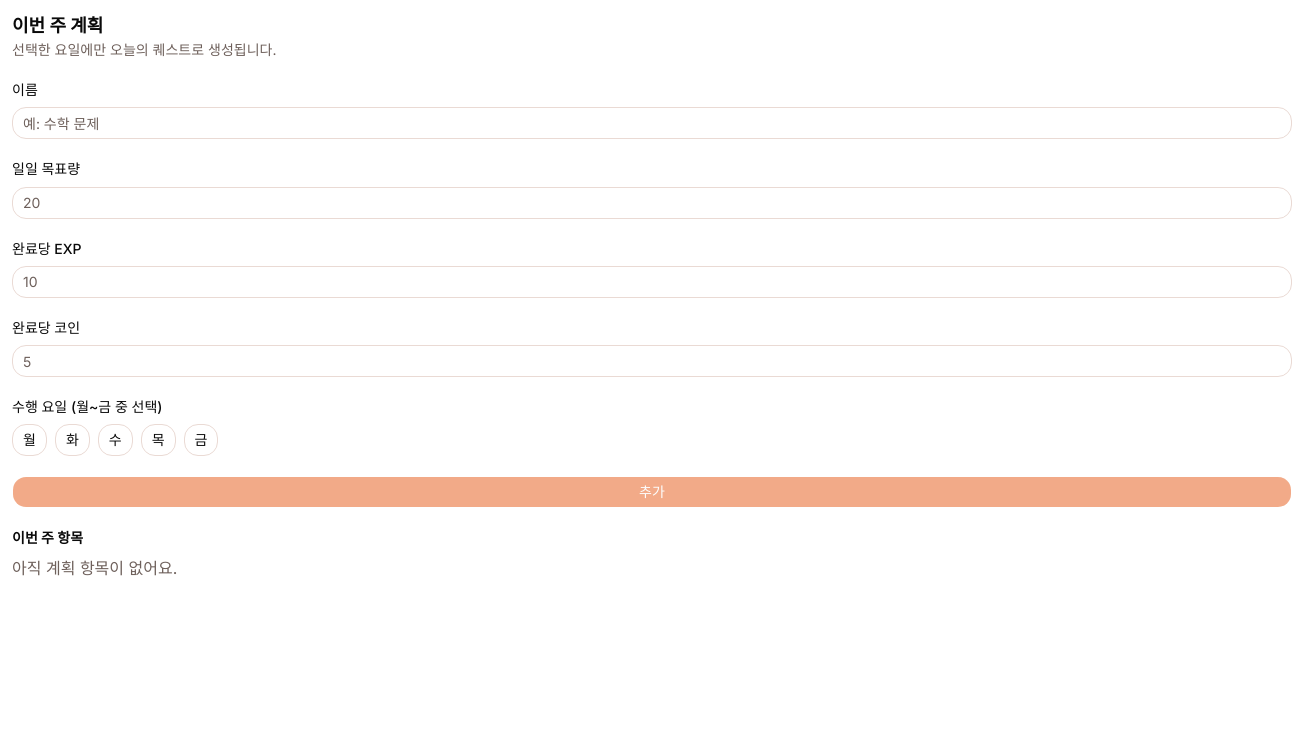
Test: PlanScreen — 이번 주 계획 › [S2-5] 요일 0개면 추가 불가, 최소 1개 선택해야 활성화된다
Check: the text "아직 계획 항목이 없어요." is shown, box 12,558 -> 177,578
Check: the button "추가" is disabled, box 12,476 -> 1292,508
Type "수학" into the field with placeholder "예: 수학 문제". click: (652, 123)
box: 12,107 -> 1292,139
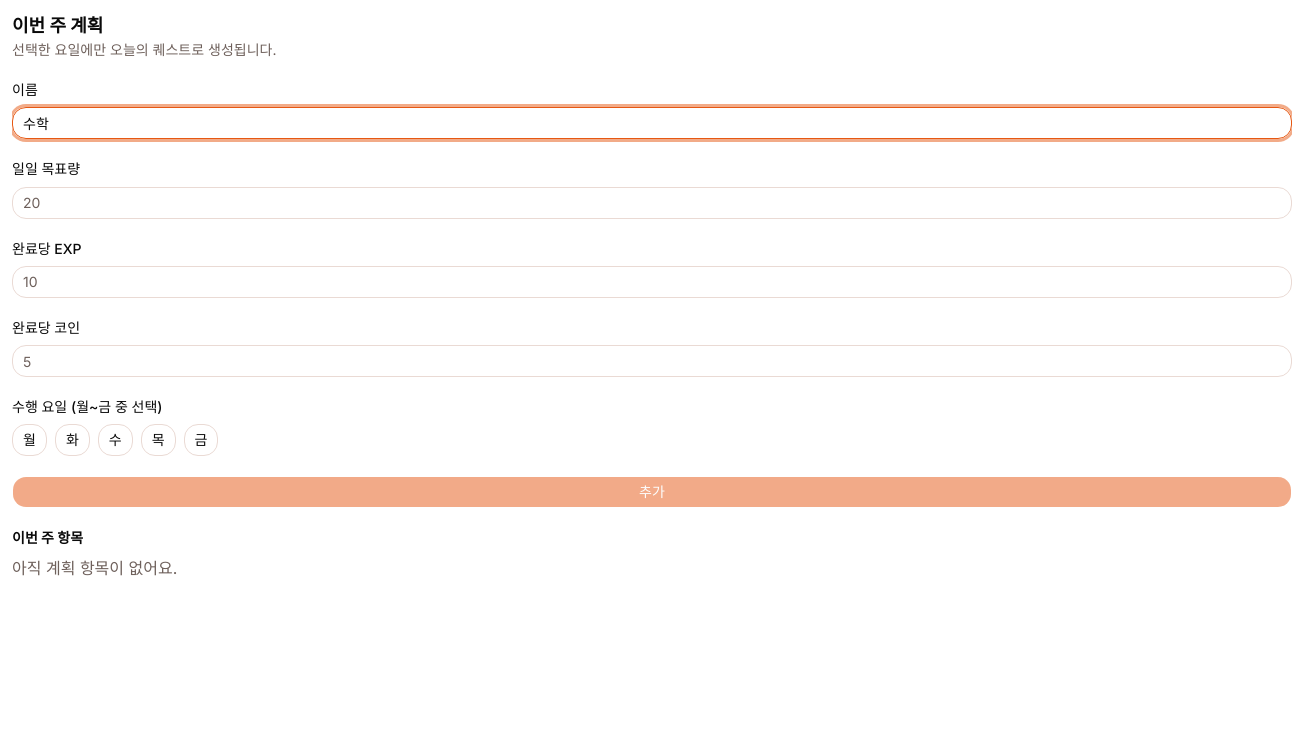
Check: the button "추가" is disabled, box 12,476 -> 1292,508
Click the button "월". click: (29, 440)
box: 12,424 -> 47,456
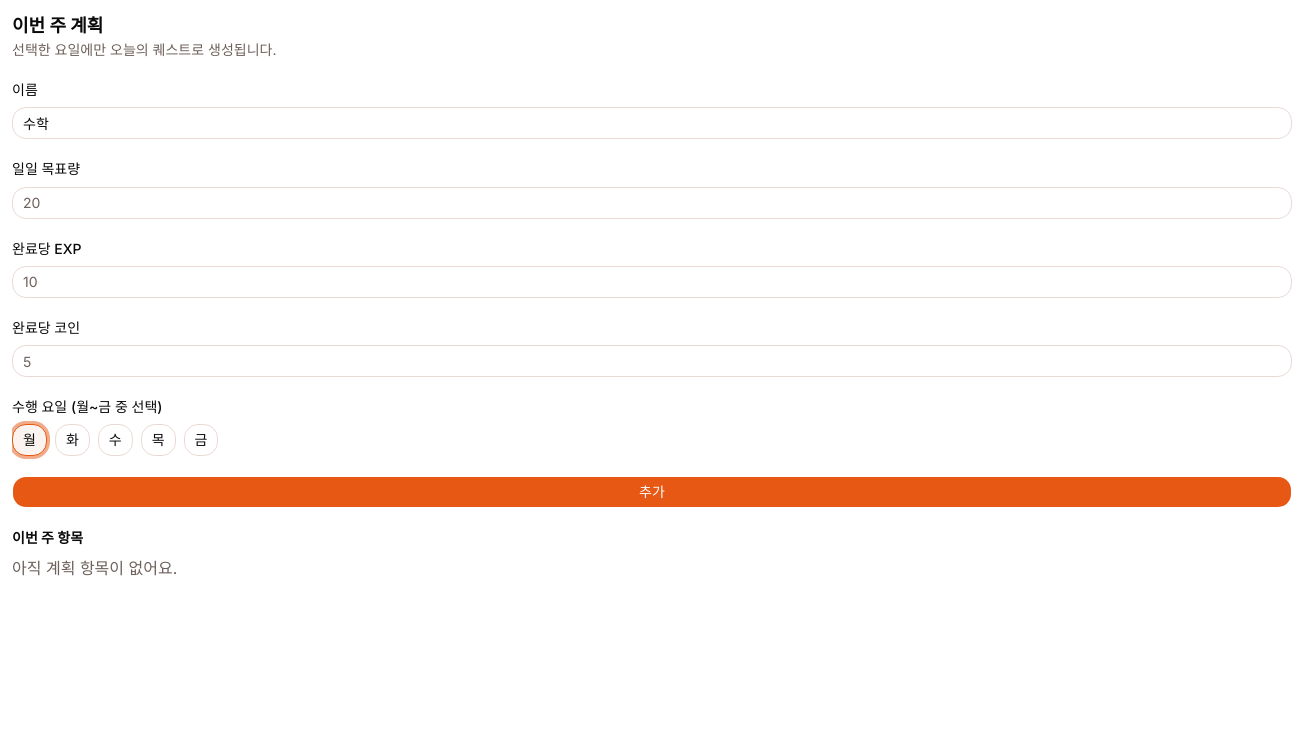
Check: the button "추가" is enabled, box 12,476 -> 1292,508
Click the button "월". click: (29, 440)
box: 12,424 -> 47,456
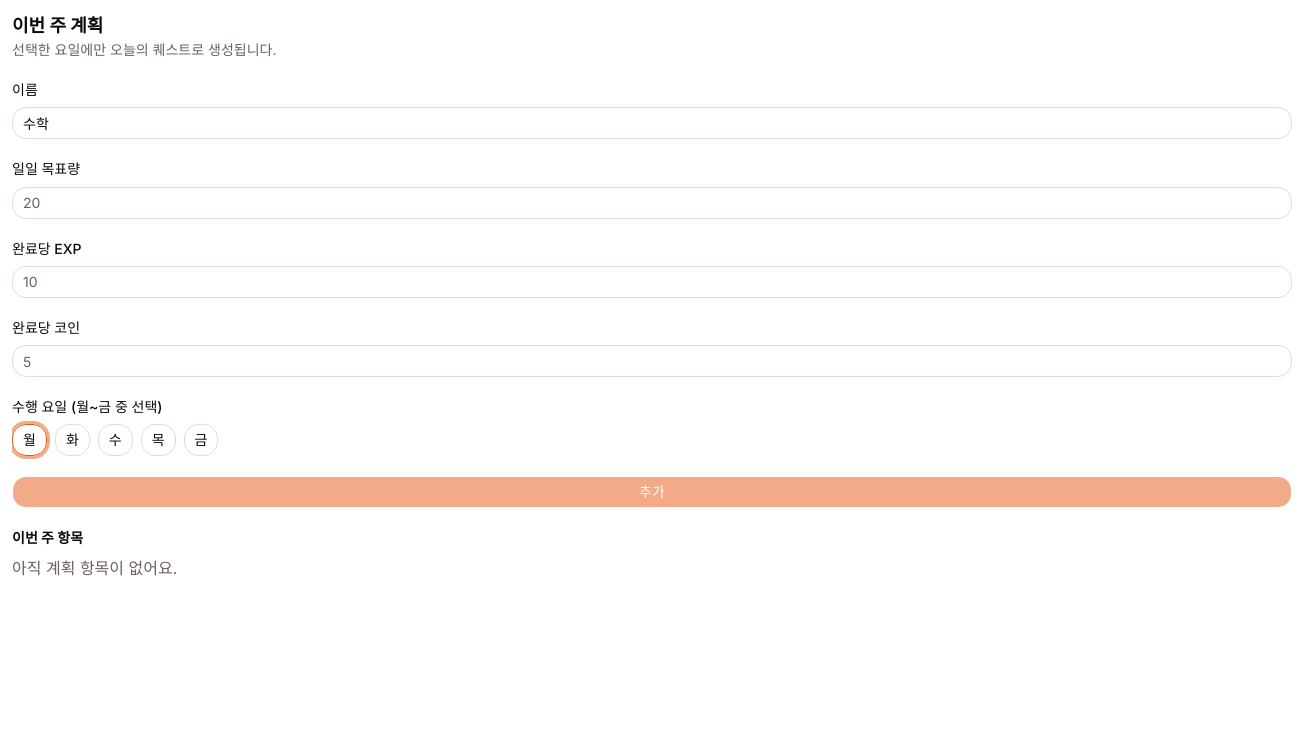
Check: the button "추가" is disabled, box 12,476 -> 1292,508
